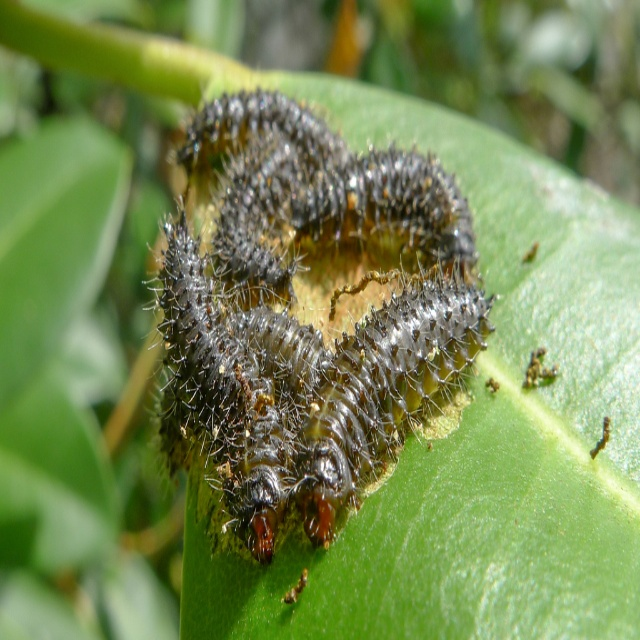Caterpillar: (138, 72, 498, 570)
